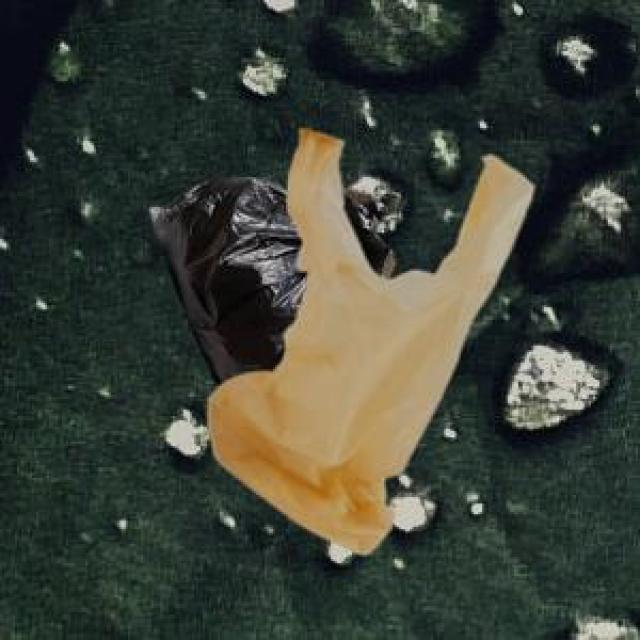miscellaneous trash: (147, 175, 395, 382)
